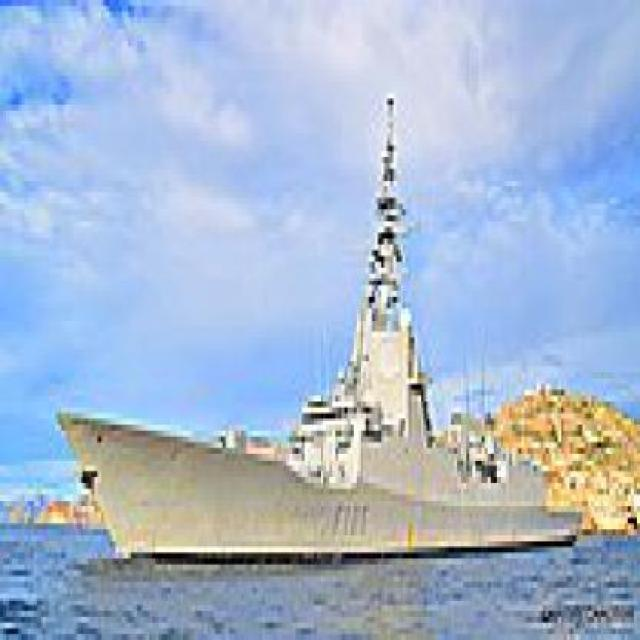warship2: (47, 65, 587, 571)
